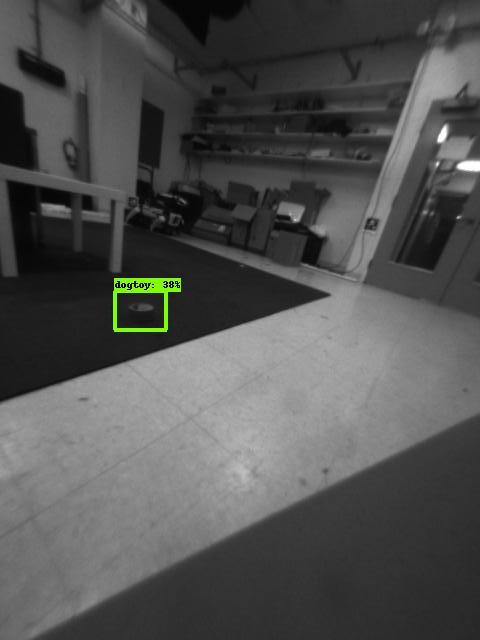dogtoy: (118, 293, 165, 327)
